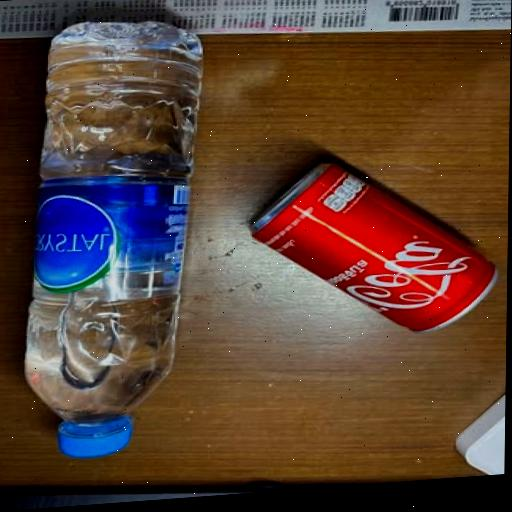bottle: (0, 0, 215, 482)
canned: (226, 112, 504, 392)
